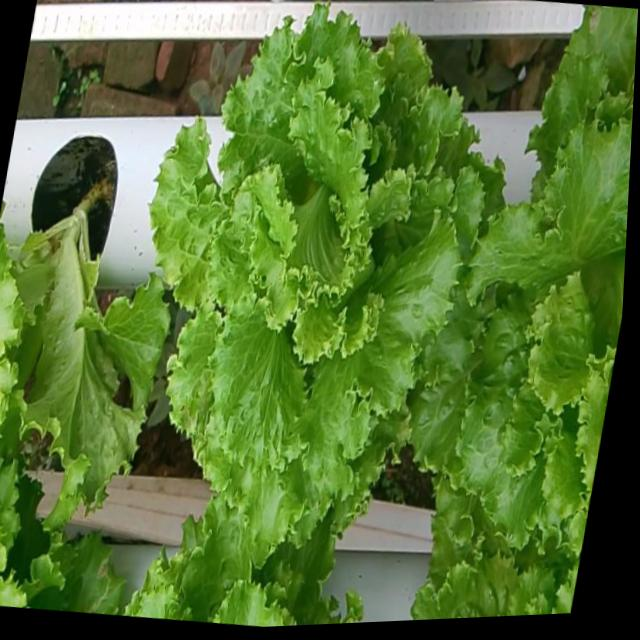Mature: (140, 3, 478, 545), (404, 105, 633, 544)
